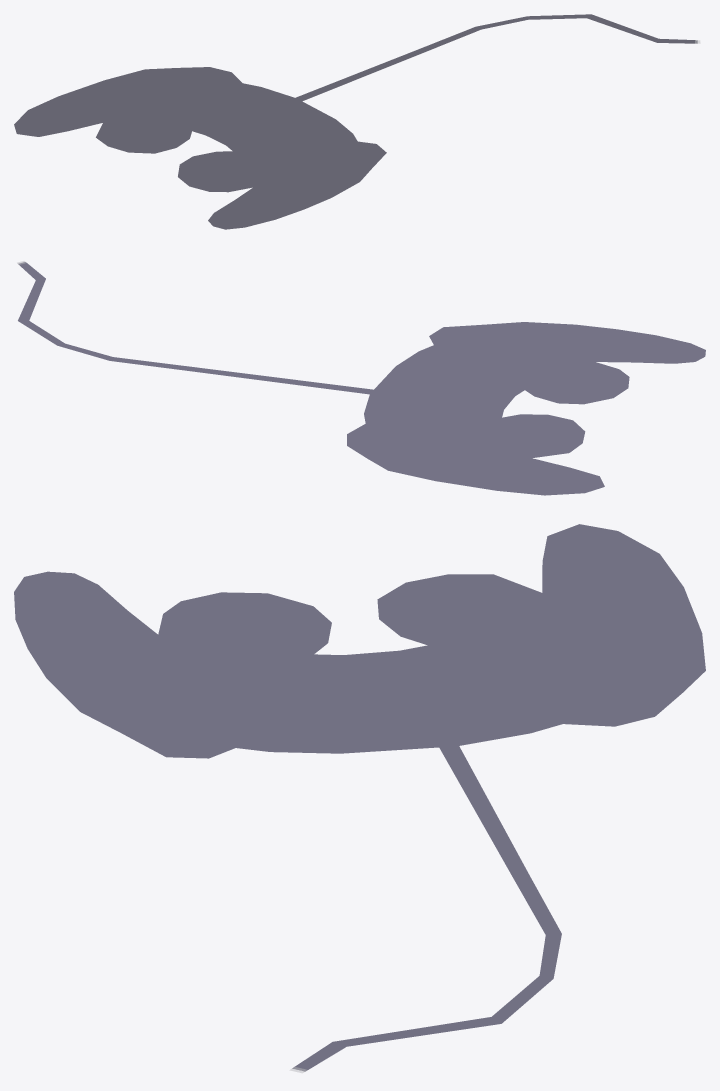
3 renders of one model, top to bottom at view 1: azimuth 30°, elevation 25°; view 2: azimuth 150°, elevation 25°; view 3: azimuth 270°, elevation 25°, orthographic. The views are drawn at different scales.
Parts seen in each view (by area): view 1: Joint_0_Object_0; view 2: Joint_0_Object_0; view 3: Joint_0_Object_0.
Boxes of the visible parts, left/top/right/bottom form: Joint_0_Object_0: left=14, top=14, right=697, bottom=229; Joint_0_Object_0: left=18, top=262, right=705, bottom=495; Joint_0_Object_0: left=14, top=524, right=705, bottom=1071.
Bounding box in the file's own units: 585 × 0 × 310.
1 material, 1 textured.
